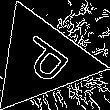P_SE: (9, 29, 75, 90)
